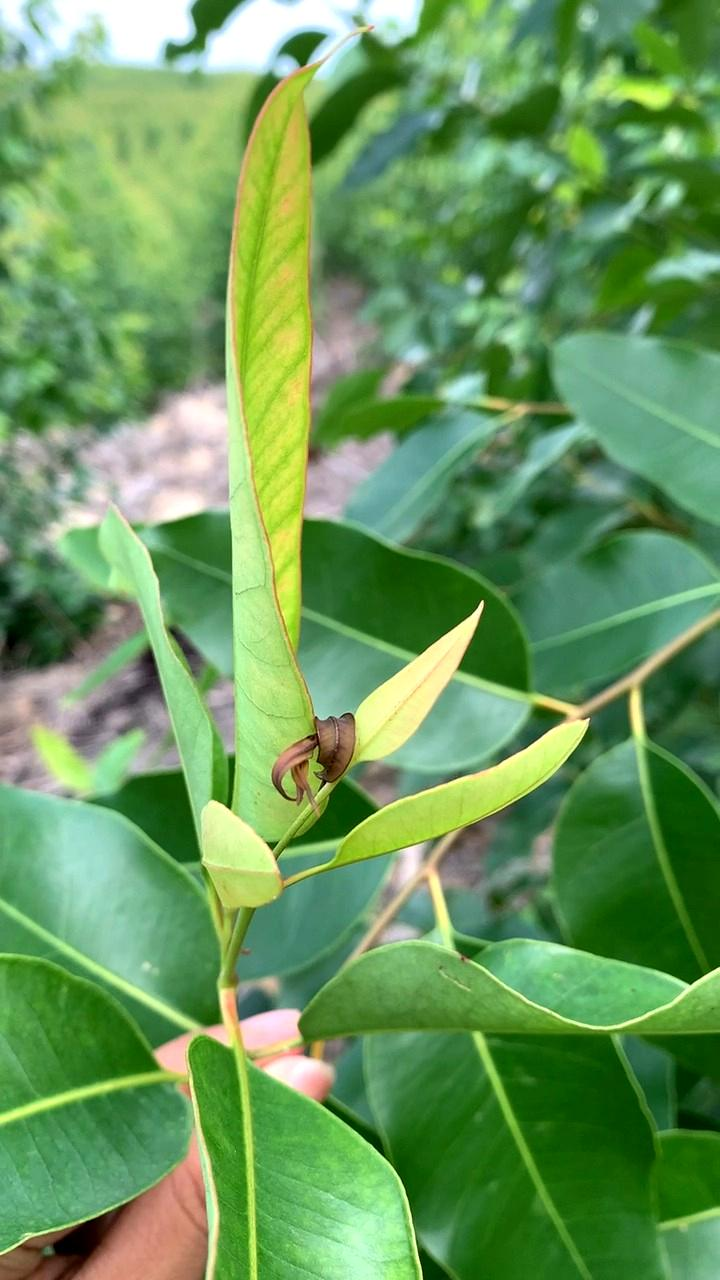Helopeltis-Withered Sprout: (266, 707, 362, 803)
